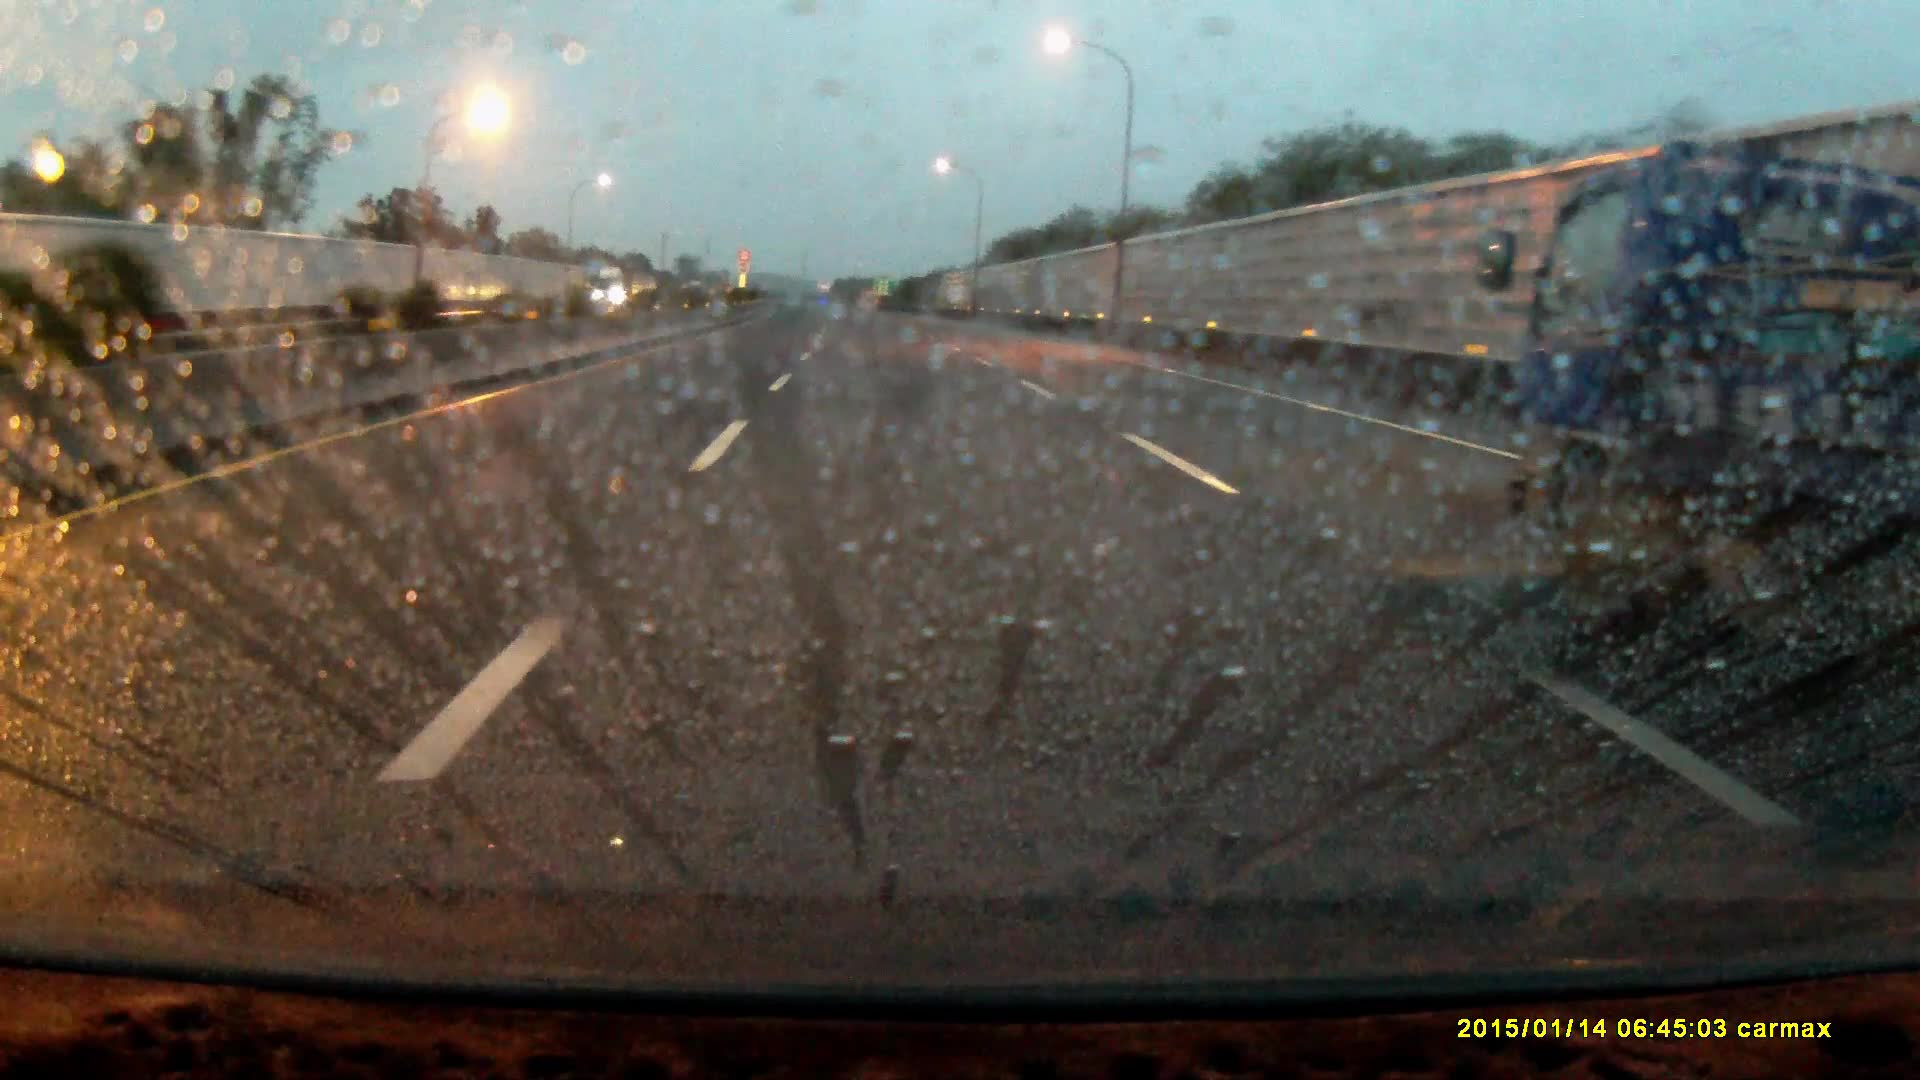vehicle: (1518, 148, 1920, 607), (593, 268, 632, 306)
